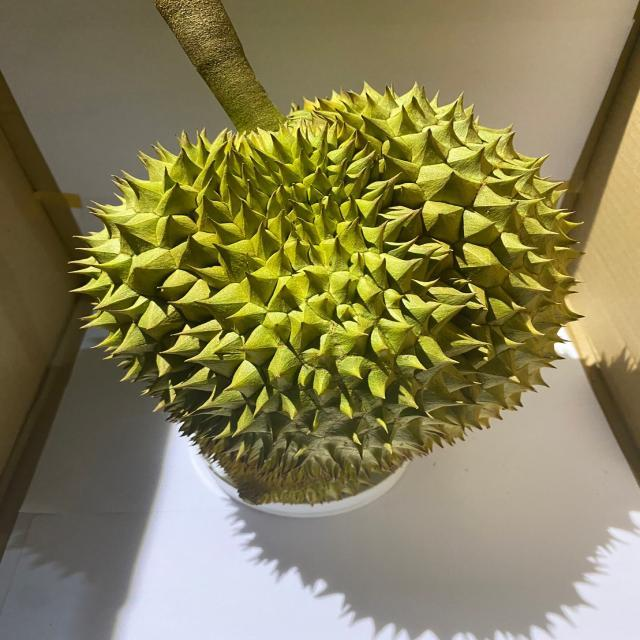immature: (71, 81, 588, 501)
